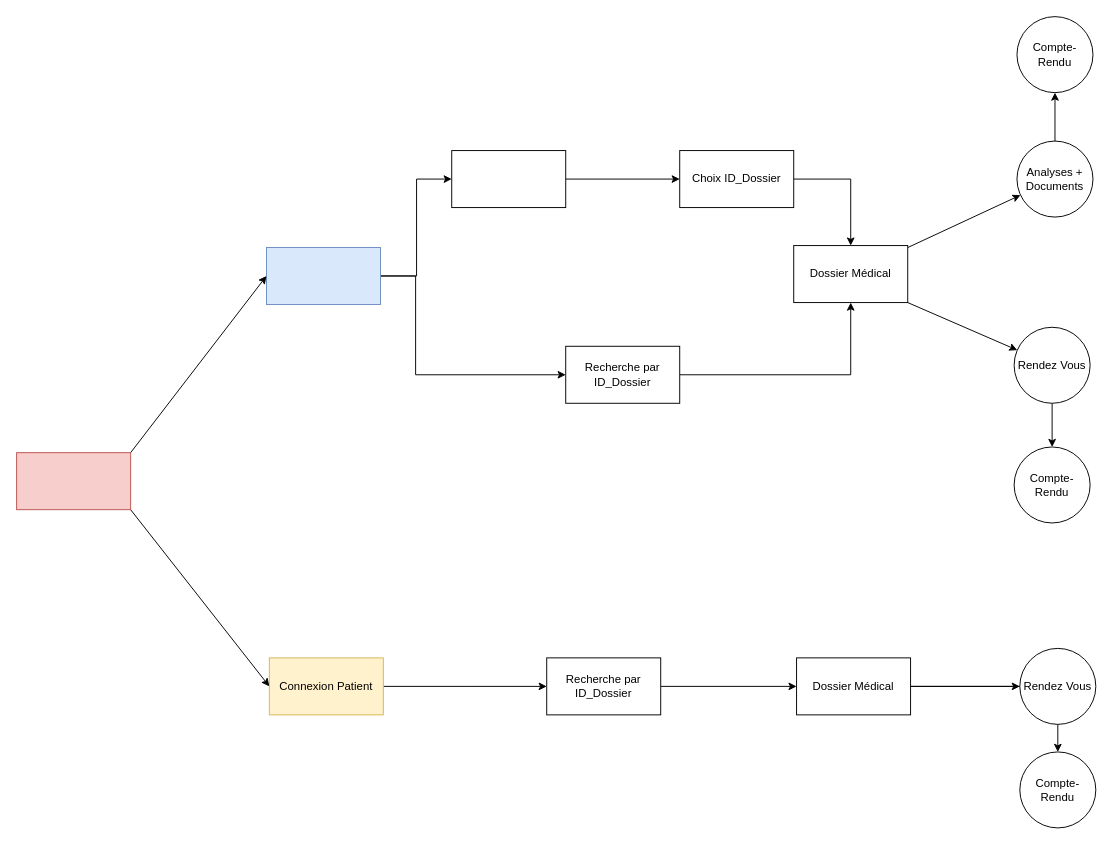
The diagram is 1112 pixels wide and 845 high, and some of its shapes have lost their labels. Each missing label, with the centre of its shape:
"Connexion Médecin" belongs at point 323,275.
"Recherche par ID_patient" belongs at point 508,179.
"User" belongs at point 73,481.
